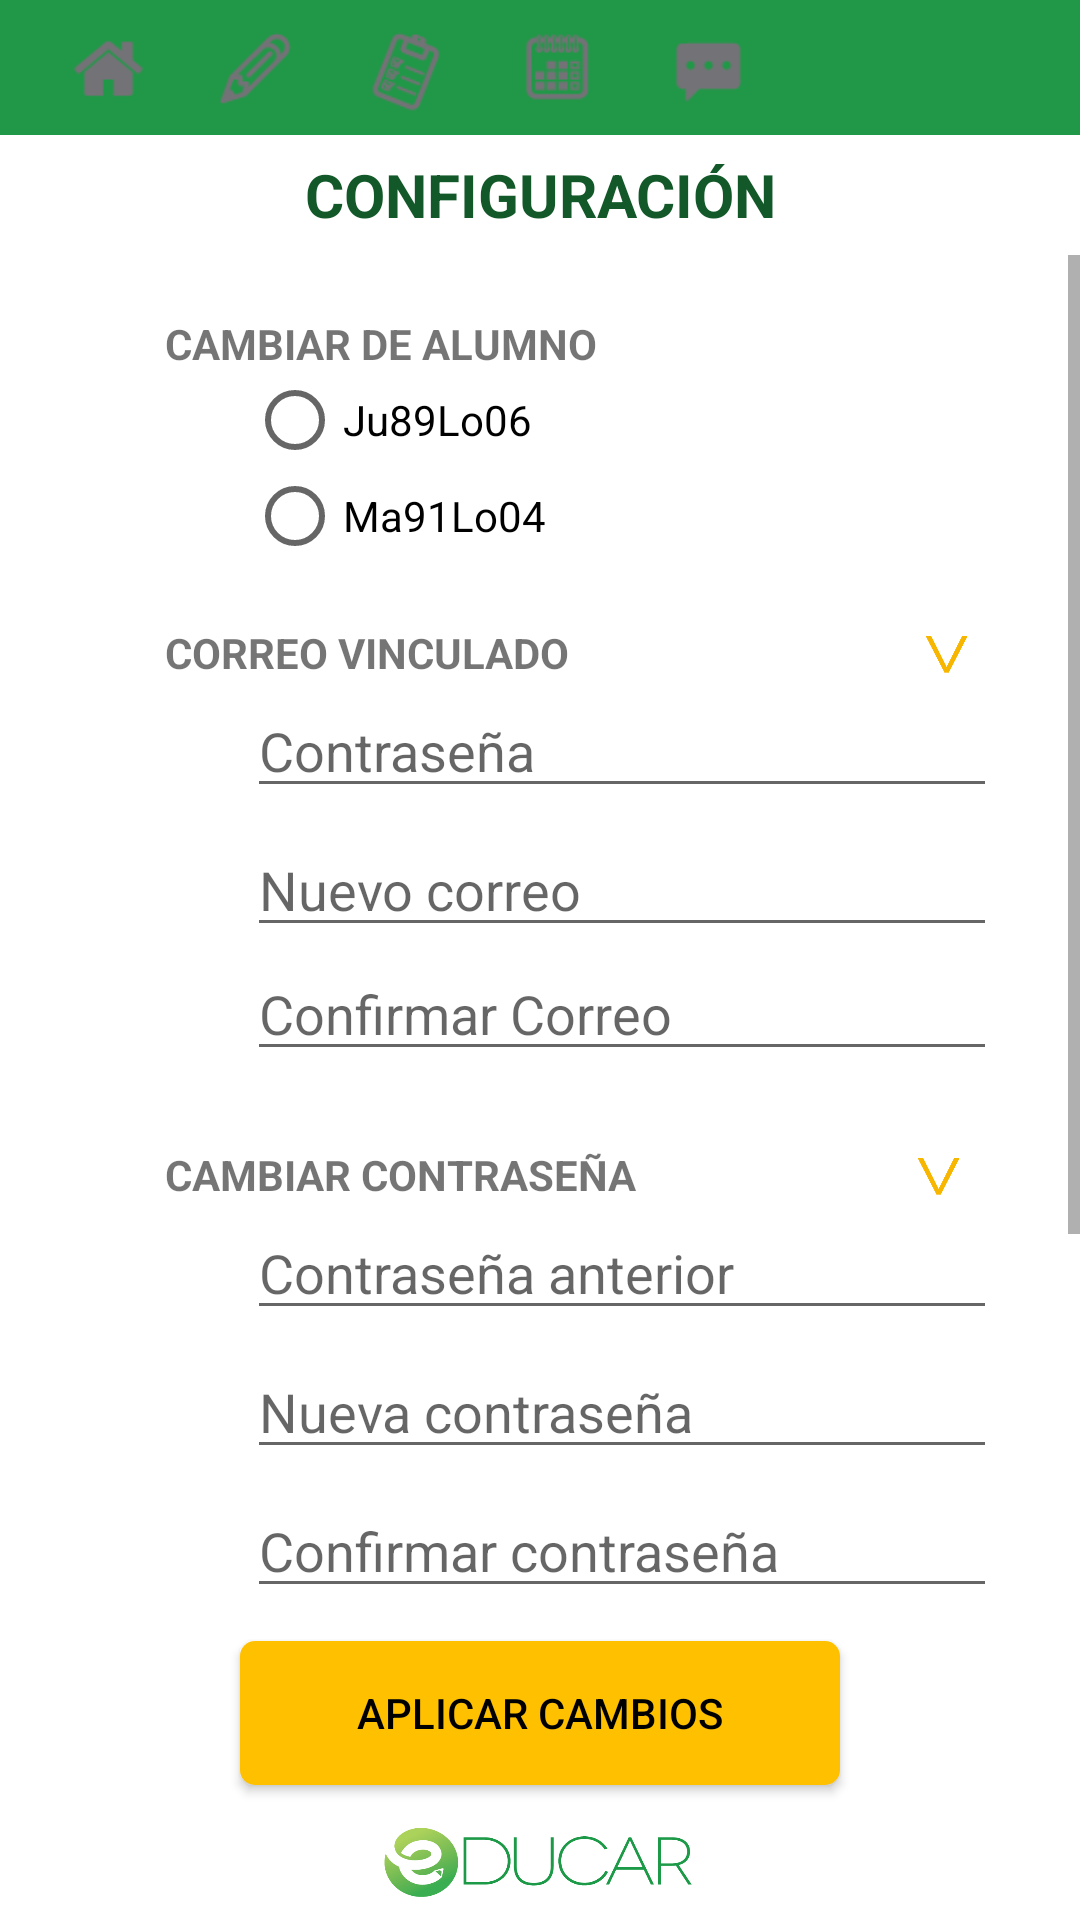

Icons on this 1080 x 1920 Android screen, each with its box as (x1, y1, x2, y2):
arrowdown: (926, 636, 968, 673), (918, 1158, 960, 1195)
